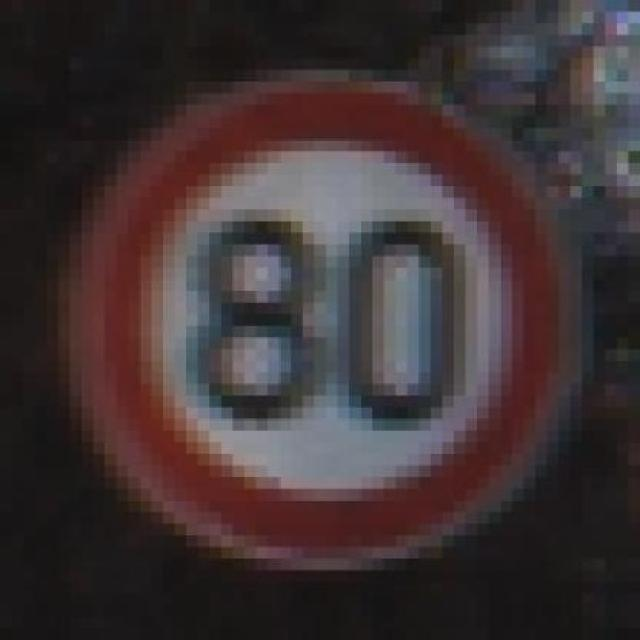forb_speed_over_80: (93, 78, 558, 560)
